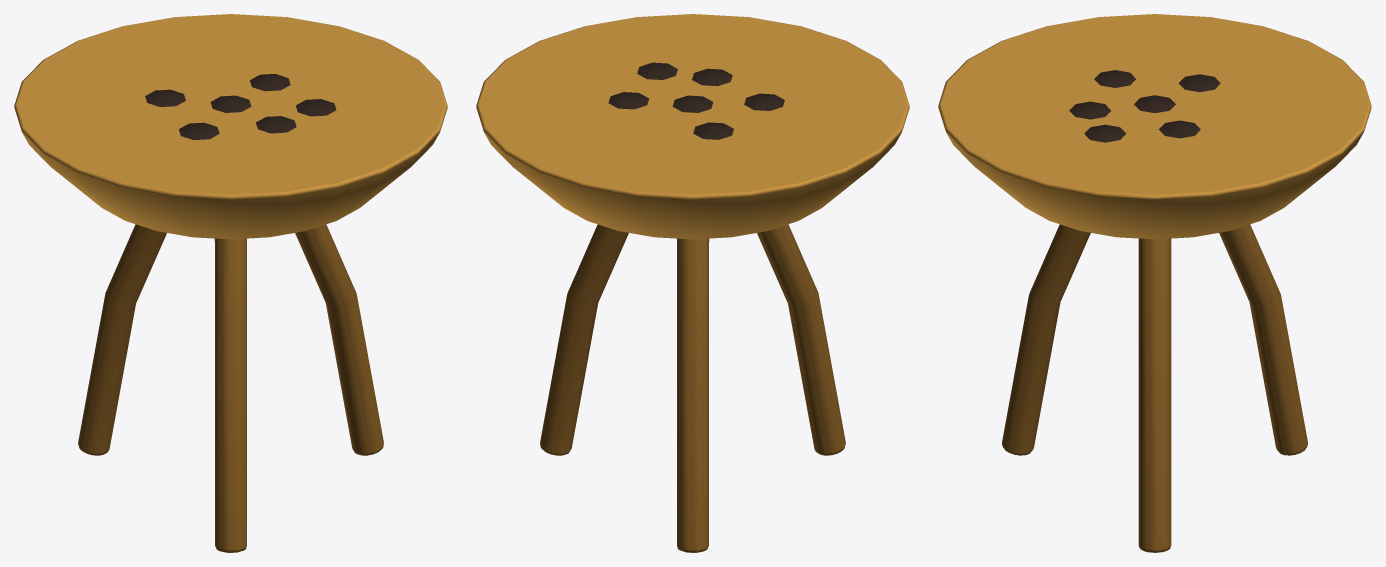
The model's file is braseiro.glb.
3 views of the same model, side by side, from view 1: azimuth 30°, elevation 25°; view 2: azimuth 150°, elevation 25°; view 3: azimuth 270°, elevation 25° (orthographic).
Parts seen in each view (by area): view 1: Tripe, Brasas; view 2: Tripe, Brasas; view 3: Tripe, Brasas.
Boxes of the visible parts, x1,y1,x2,y2 form: Tripe: (14, 14, 447, 552); Brasas: (145, 74, 336, 139); Tripe: (476, 14, 909, 552); Brasas: (608, 62, 784, 139); Tripe: (938, 14, 1371, 552); Brasas: (1069, 70, 1220, 142).
Bounding box in the file's own units: 0.8715 × 0.8523 × 0.8715.
